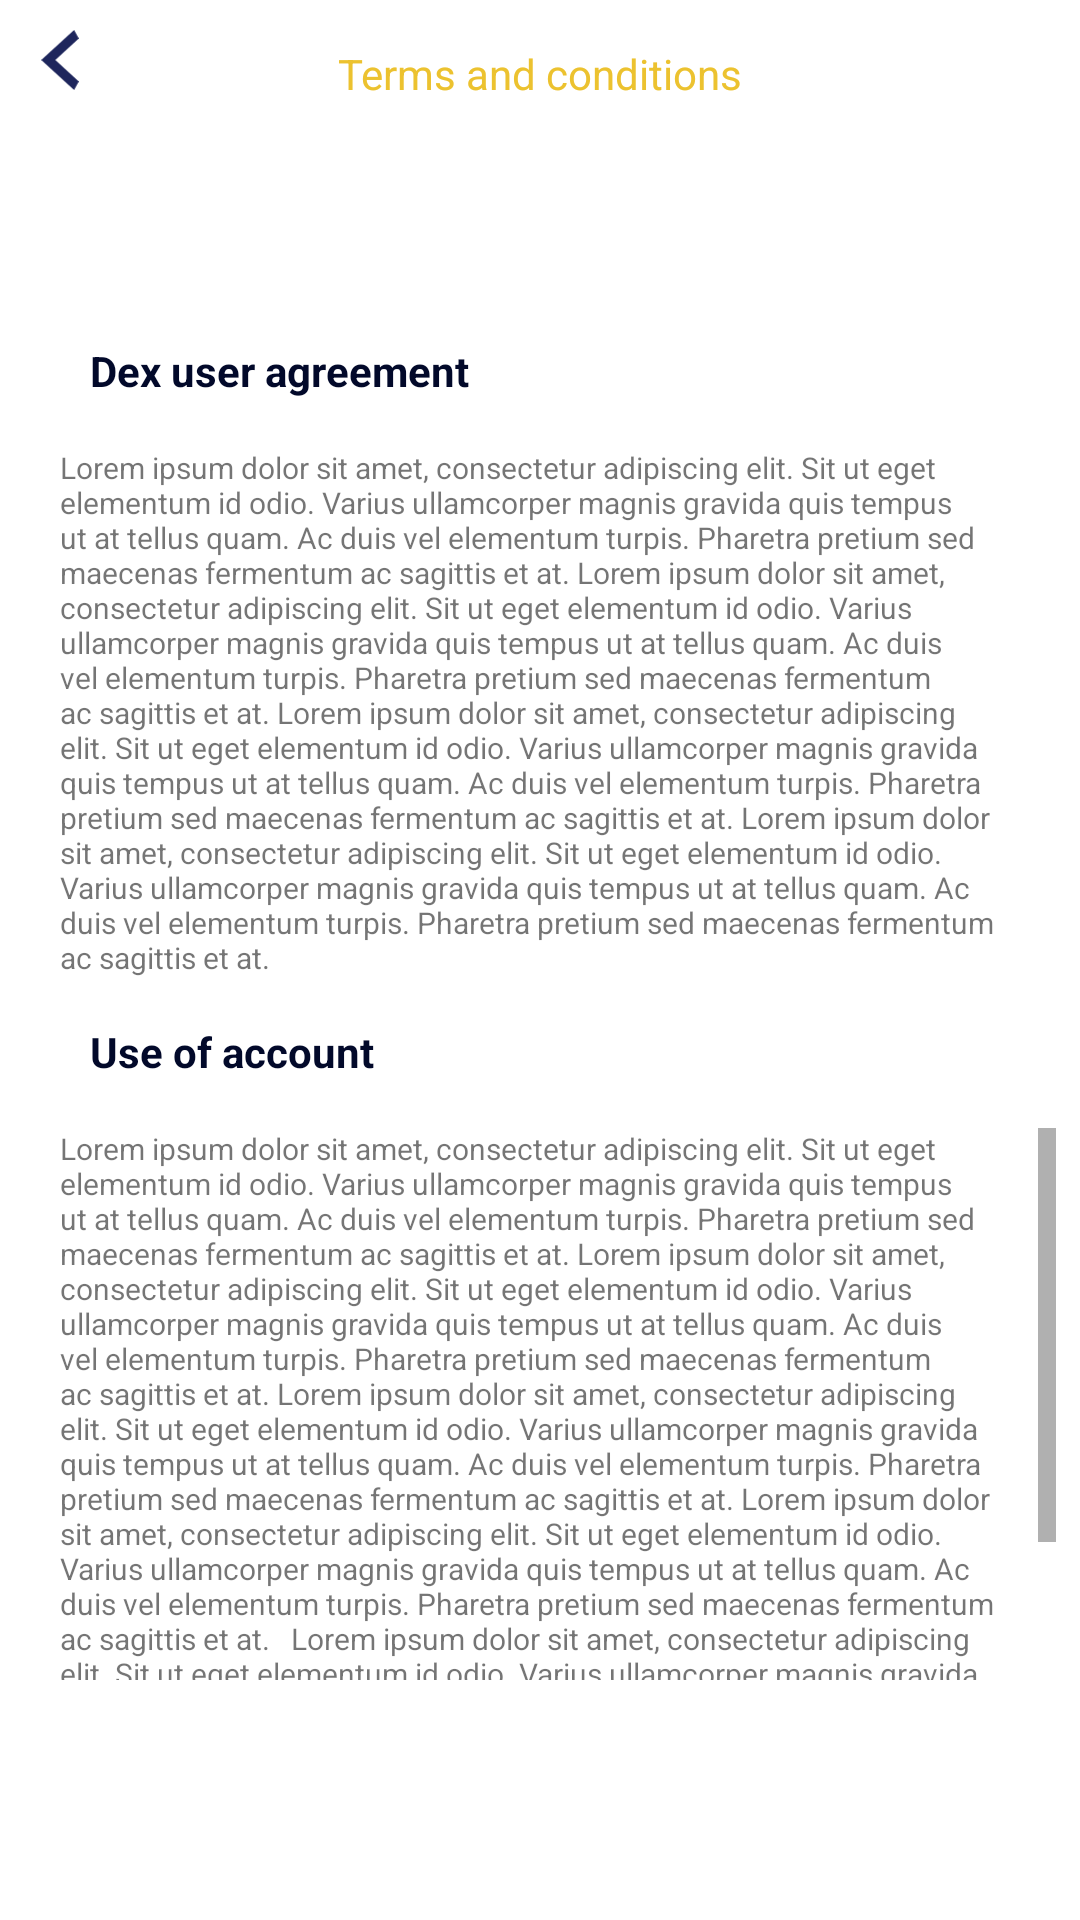

Icon bounding boxes for this 1080×1920 phone screenshot, format [left=x1, top=y1, right=x2, bottom=y2]:
back: [left=41, top=30, right=79, bottom=90]
